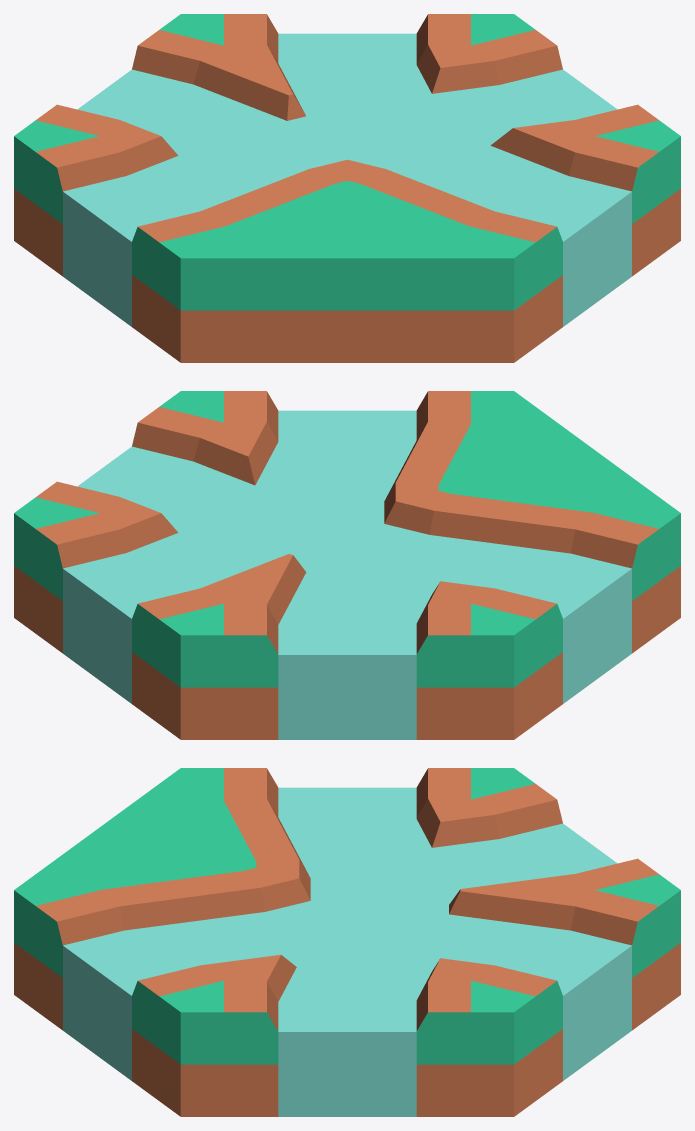
Rendered from river_intersectionG.fbx.
3 views of the same model, one above another, from view 1: azimuth 30°, elevation 25°; view 2: azimuth 150°, elevation 25°; view 3: azimuth 270°, elevation 25° (orthographic).
Visible parts, largest first — view 1: river_intersectionG; view 2: river_intersectionG; view 3: river_intersectionG.
Boxes of the visible parts, left/top/right/bottom form: river_intersectionG: left=14, top=14, right=680, bottom=362; river_intersectionG: left=14, top=391, right=680, bottom=739; river_intersectionG: left=14, top=768, right=680, bottom=1116.
Bounding box in the file's own units: 10 × 2 × 11.55.
